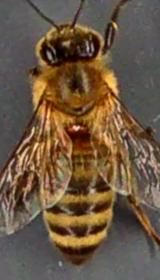varroa_mite: (59, 111, 92, 141)
